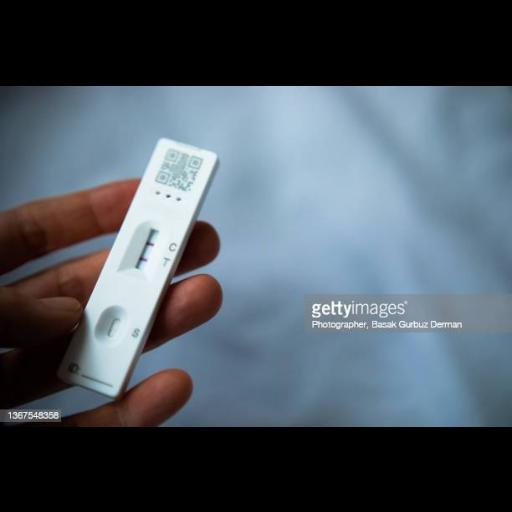Pos: (55, 134, 221, 398)
